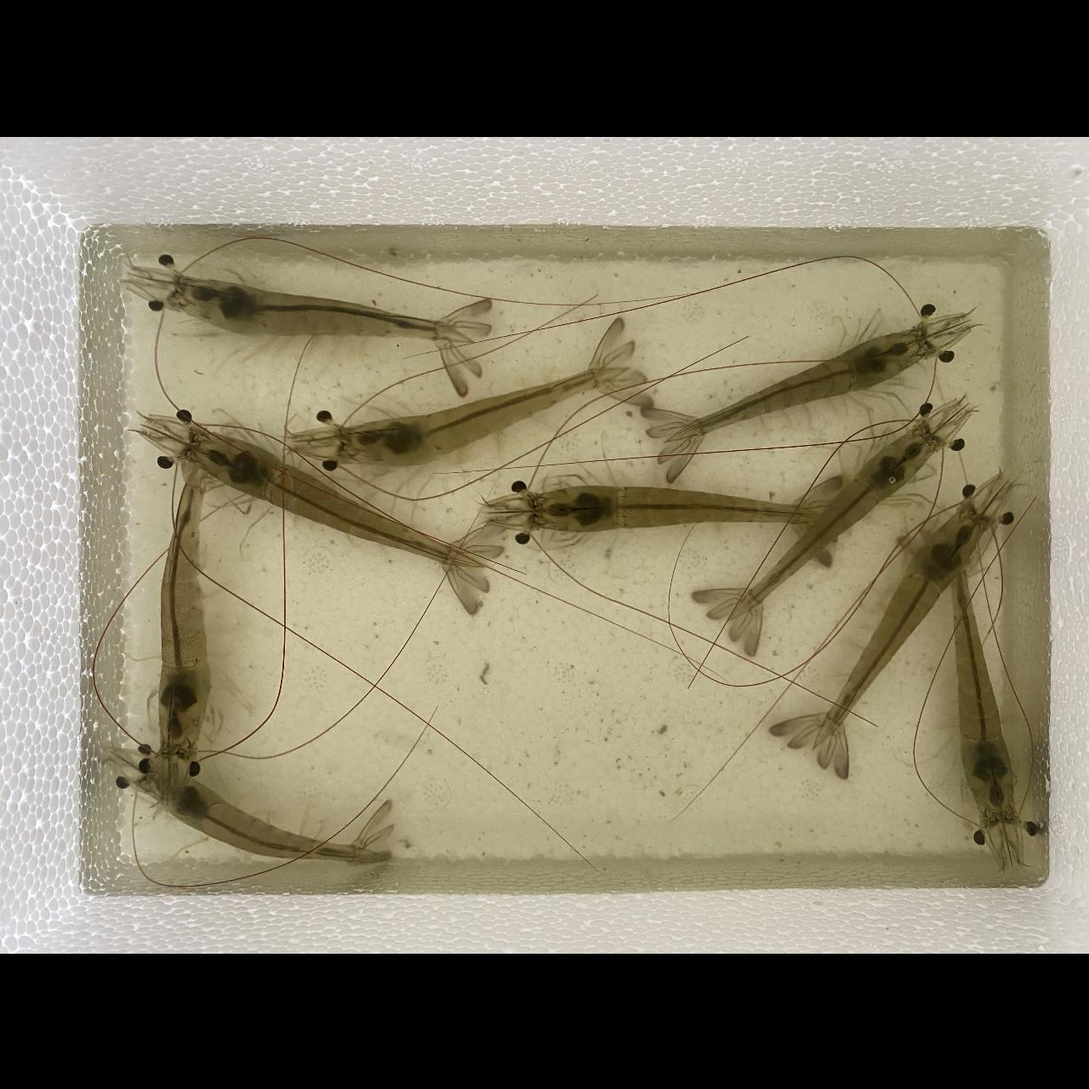top_shrimp: (730, 430, 938, 623), (818, 510, 985, 749), (192, 432, 478, 567), (670, 330, 926, 439), (349, 369, 621, 463), (146, 767, 385, 863), (951, 526, 1014, 820), (179, 277, 468, 340), (160, 444, 208, 755), (534, 487, 818, 531)
